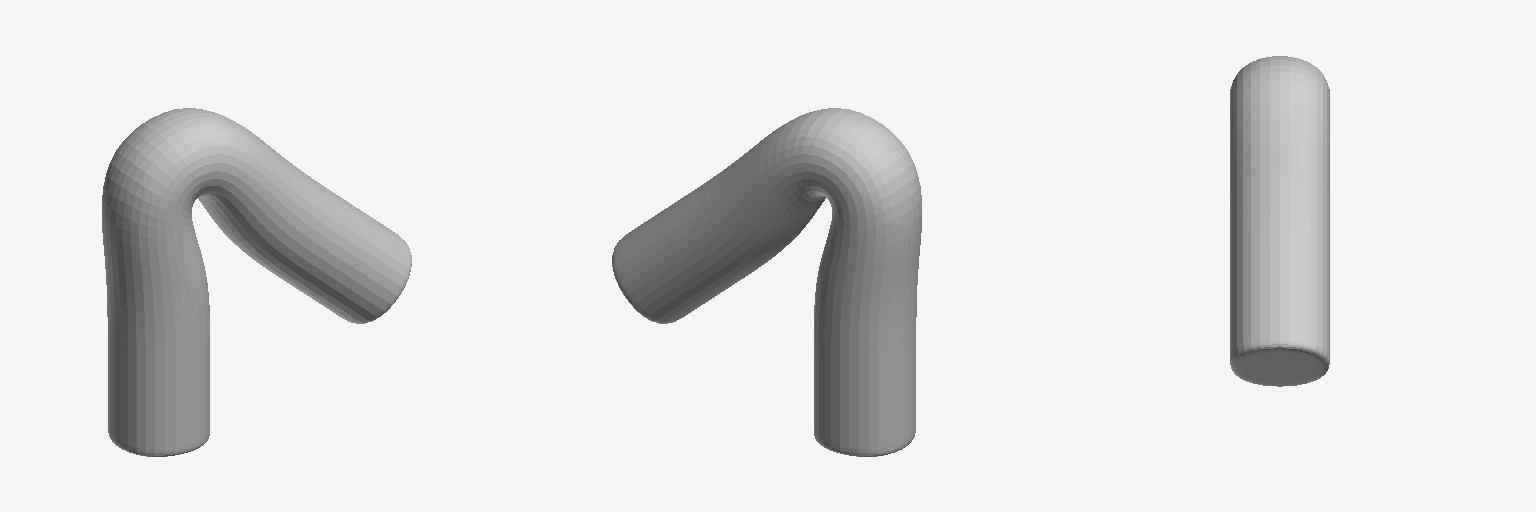
File: arm3.obj
3 renders of one model, left to right at view 1: azimuth 30°, elevation 25°; view 2: azimuth 150°, elevation 25°; view 3: azimuth 270°, elevation 25°, orthographic.
Parts seen in each view (by area): view 1: Cube; view 2: Cube; view 3: Cube.
Boxes of the visible parts, x1=… form: Cube: x1=102, y1=108, x2=411, y2=456; Cube: x1=612, y1=108, x2=921, y2=456; Cube: x1=1230, y1=56, x2=1329, y2=386.
Size of the model in its own units: 6.14 by 6.36 by 1.83.